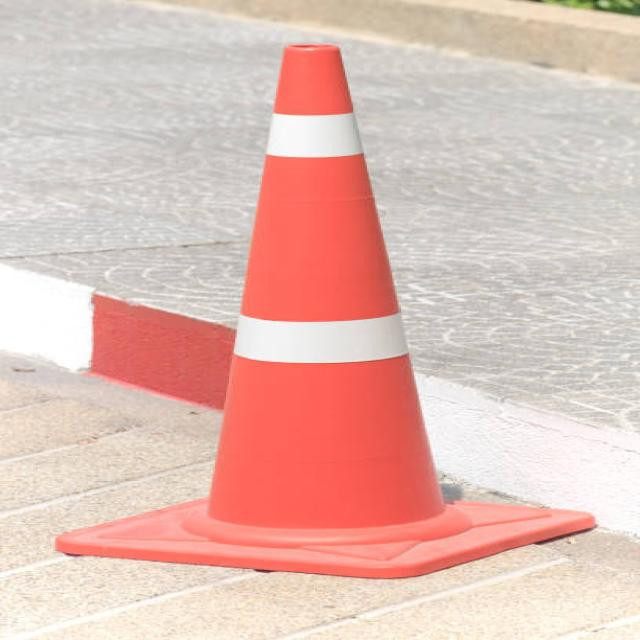Traffic Cone: (45, 26, 622, 603)
